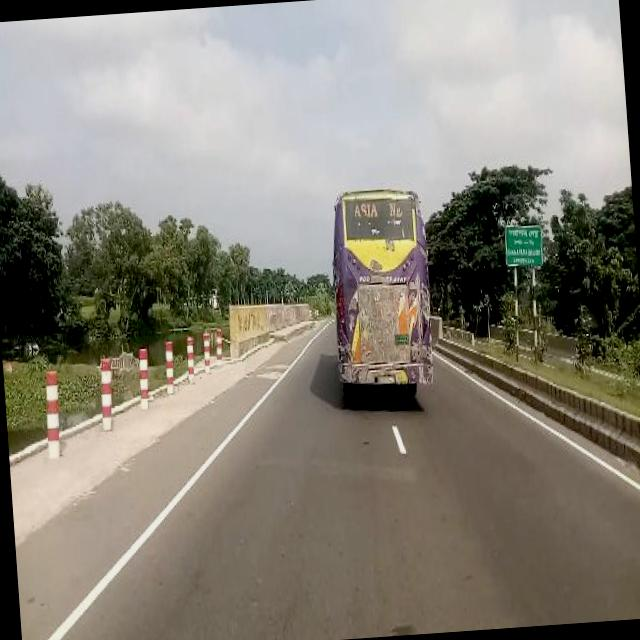bus: (324, 182, 433, 396)
